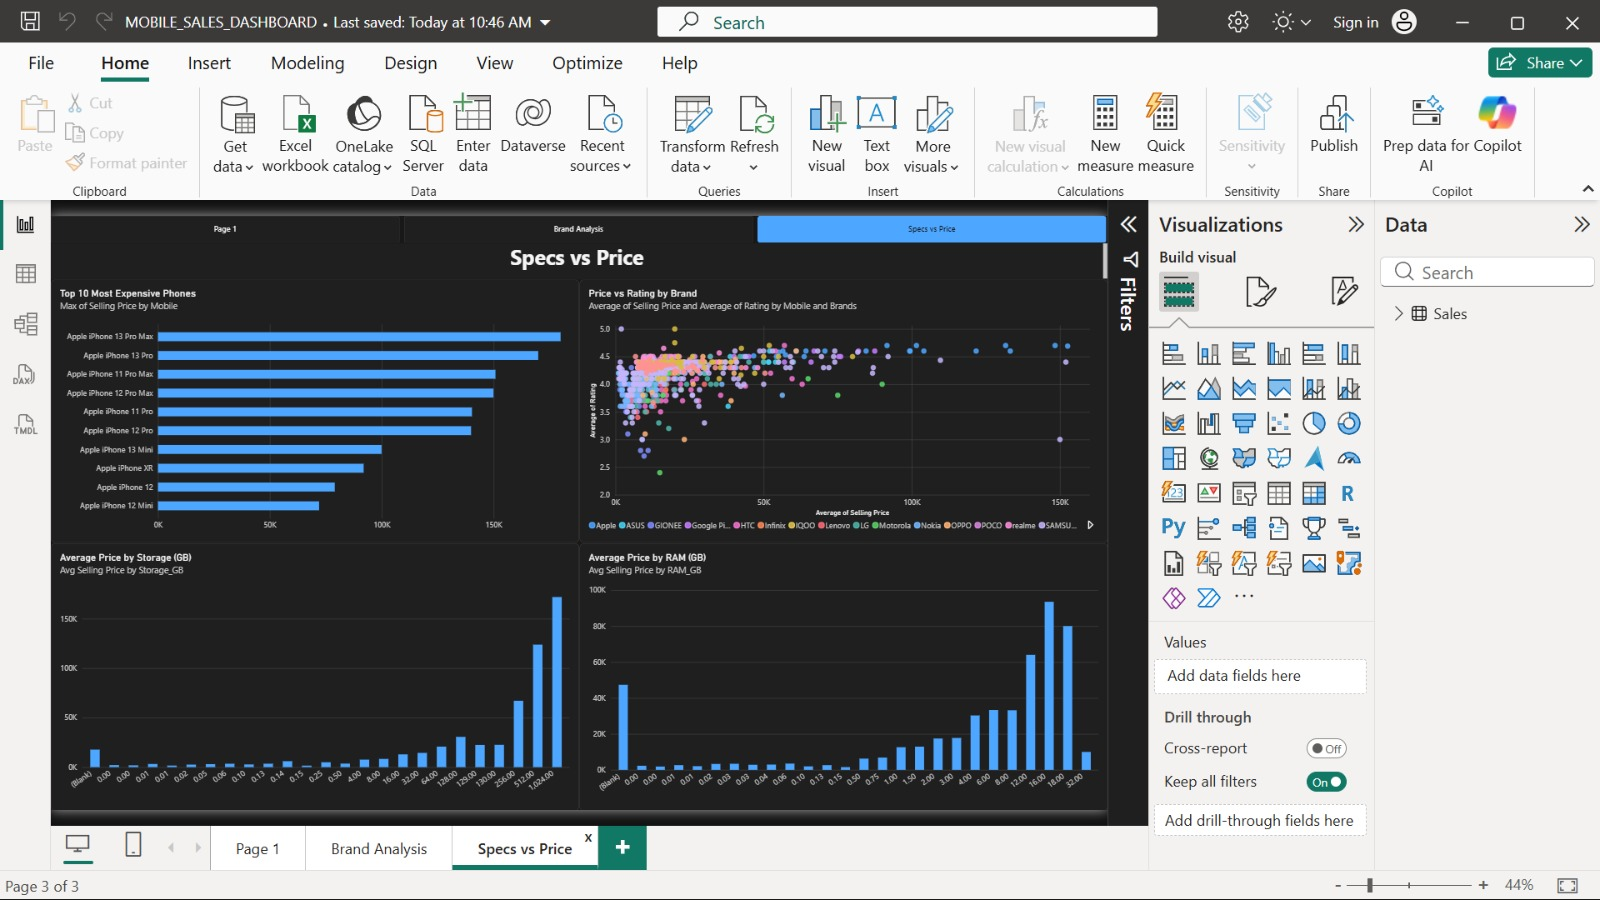

This screenshot's page, from the dashboard's own definition file:
{"tool":"powerbi","page":{"name":"Specs vs Price","canvas":[1920,1080],"ordinal":2},"visuals":[{"type":"clusteredColumnChart","title":"Average Price by RAM (GB)","fields":{"Category":["Sales.RAM_GB"],"Y":["Sales.Avg Selling Price"]},"box":[972,614,936,454],"z":0},{"type":"clusteredColumnChart","title":"Average Price by Storage (GB)","fields":{"Category":["Sales.Storage_GB"],"Y":["Sales.Avg Selling Price"]},"box":[12,614,948,454],"z":1},{"type":"scatterChart","title":"Price vs Rating by Brand","fields":{"Category":["Sales.Mobile"],"Series":["Sales.Brands"],"X":["Avg(Sales.Selling Price)"],"Y":["Avg(Sales.Rating)"]},"box":[924,132,984,470],"z":2},{"type":"clusteredBarChart","title":"Top 10 Most Expensive Phones","fields":{"Category":["Sales.Mobile"],"Y":["Max(Sales.Selling Price)"]},"box":[12,132,900,470],"z":3},{"type":"pageNavigator","box":[0,0,1920,50],"z":4},{"type":"textbox","box":[12,58,1896,64],"z":9000}]}

Visuals, with their boxes on the page's 1920x1080 design canvas (x1, y1, x2, y2). These are canvas units, not pixel positions in the 1600x900 screenshot, which may show the page scaled, cropped or inside an application window:
"Average Price by RAM (GB)" clusteredColumnChart: 972/614/1908/1068
"Average Price by Storage (GB)" clusteredColumnChart: 12/614/960/1068
"Price vs Rating by Brand" scatterChart: 924/132/1908/602
"Top 10 Most Expensive Phones" clusteredBarChart: 12/132/912/602
pageNavigator: 0/0/1920/50
textbox: 12/58/1908/122
